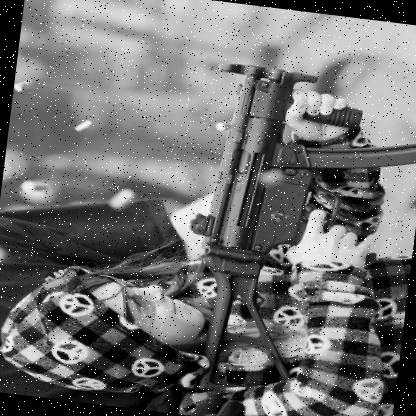rifle: (164, 57, 416, 412)
